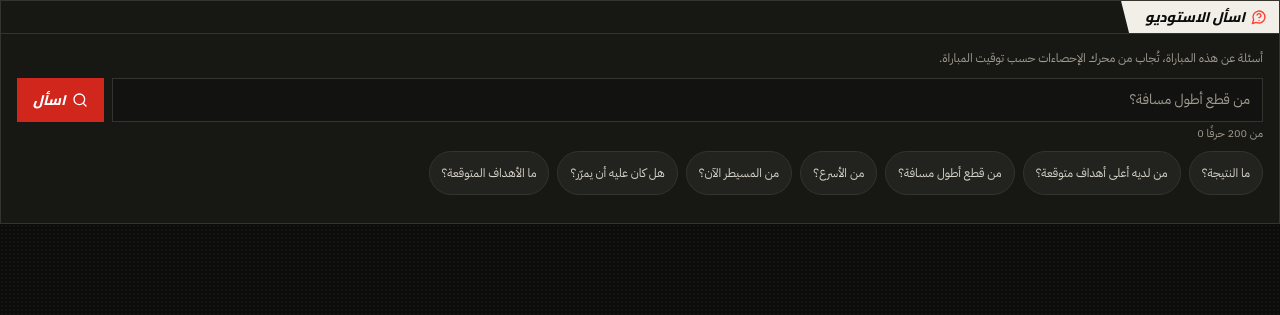
Test: AskStudio › shows refusals in the answer language, right to left for Arabic
This screenshot has width=1280, height=315.
What coordinates should you click on to do the following:
click the button "من لديه أعلى أهداف متوقعة؟"
I would click on:
 (1102, 172)
Its box is [1023, 150, 1181, 194].
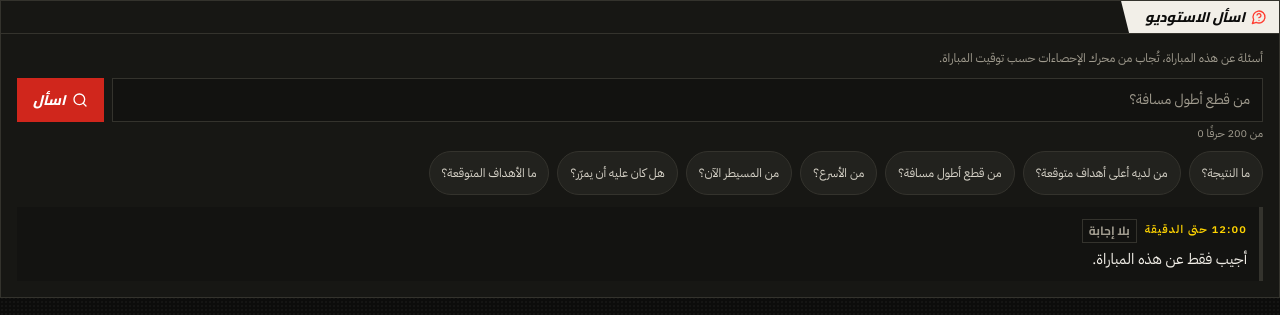
Expected: the element with test id "ask-answer" shows "بلا إجابة", [1089, 218, 1130, 242]
